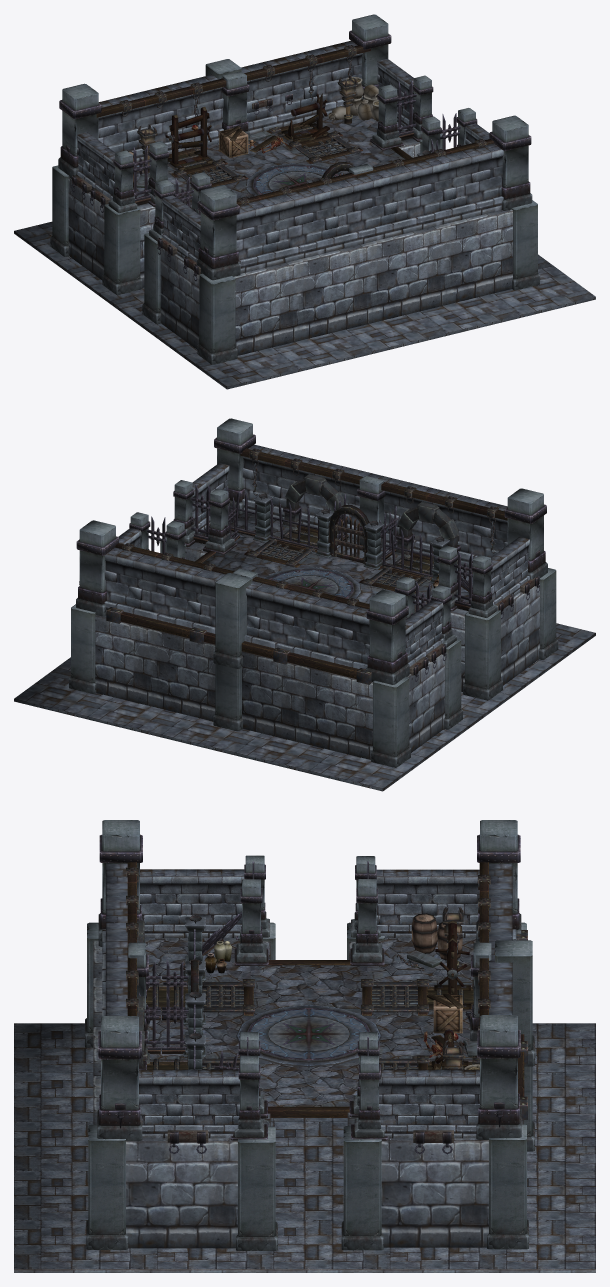
The model's file is cell2LR.fbx.
3 renders of one model, top to bottom at view 1: azimuth 30°, elevation 25°; view 2: azimuth 150°, elevation 25°; view 3: azimuth 270°, elevation 25°, orthographic. The views are drawn at different scales.
Parts seen in each view (by area): view 1: Cell2LR; view 2: Cell2LR; view 3: Cell2LR.
Part boxes in pixels (x1,y1,x2,y2): Cell2LR: [14, 14, 595, 389]; Cell2LR: [14, 418, 595, 791]; Cell2LR: [14, 820, 595, 1272].
Size of the model in its own units: 33.26 by 13.84 by 33.26.
